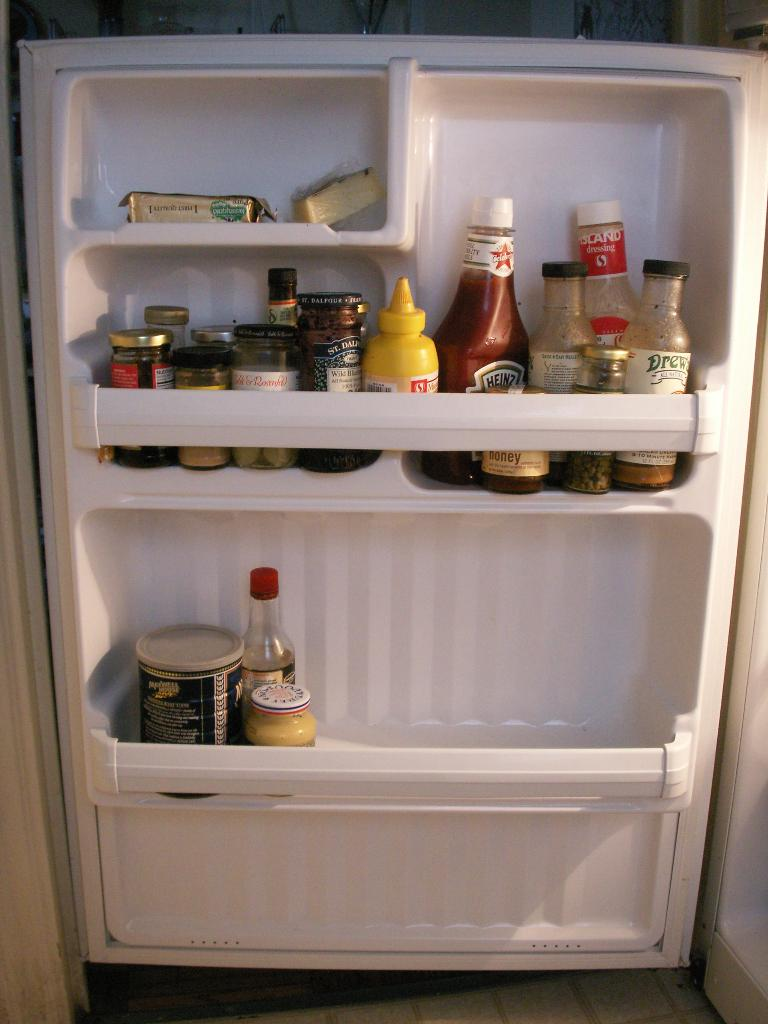Refrigerator: (6, 34, 765, 1018)
